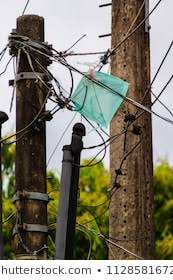kite: (70, 62, 133, 128)
